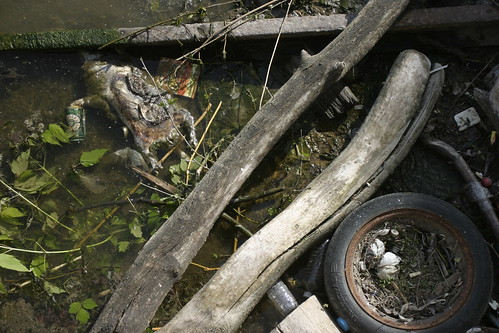trash: (81, 26, 499, 333)
tree trunk: (99, 19, 462, 332)
